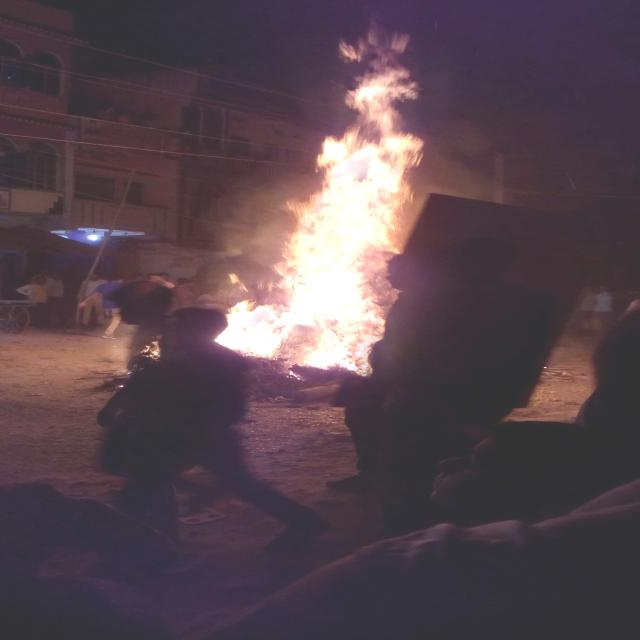firerotation: (210, 26, 430, 376)
